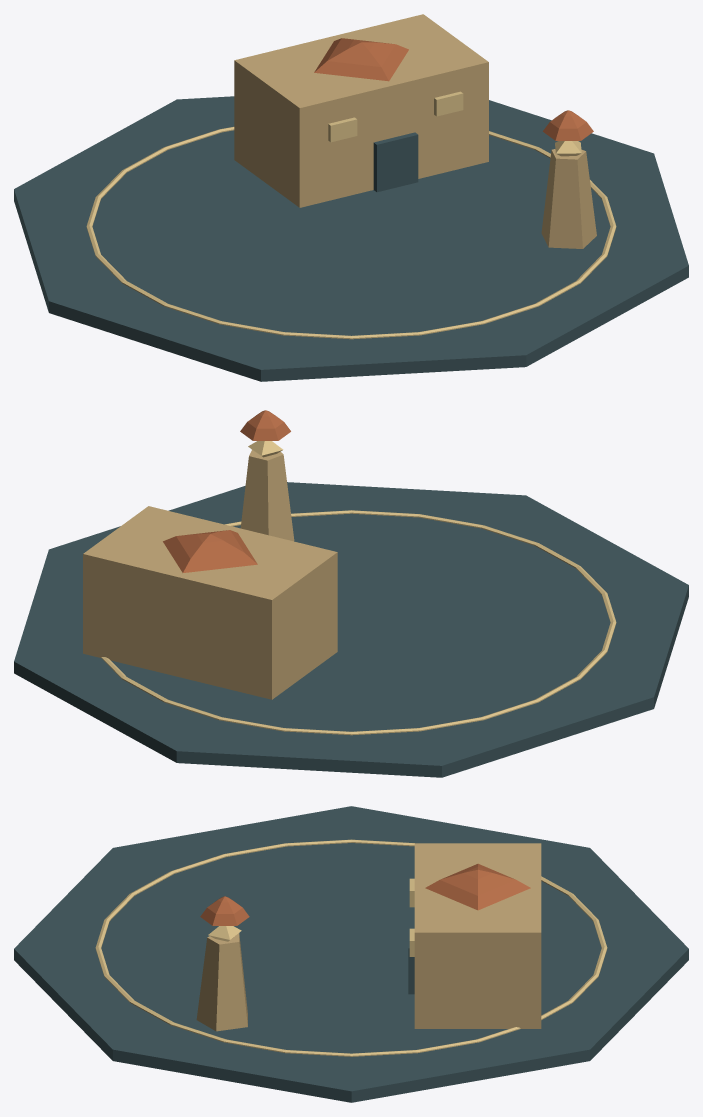
Rendered from deck.gltf.
3 views of the same model, one above another, from view 1: azimuth 30°, elevation 25°; view 2: azimuth 150°, elevation 25°; view 3: azimuth 270°, elevation 25° (orthographic). The views are drawn at different scales.
Visible parts, largest first — view 1: cylinder, block, beacon, ring; view 2: cylinder, block, beacon, ring; view 3: cylinder, block, beacon, ring.
Part boxes in pixels (x1=…): cylinder: x1=14, y1=96, x2=688, y2=381; block: x1=234, y1=14, x2=488, y2=207; beacon: x1=541, y1=110, x2=596, y2=248; ring: x1=86, y1=126, x2=616, y2=339; cylinder: x1=14, y1=482, x2=688, y2=777; block: x1=83, y1=506, x2=337, y2=699; beacon: x1=240, y1=410, x2=294, y2=541; ring: x1=101, y1=510, x2=616, y2=735; cylinder: x1=14, y1=806, x2=688, y2=1102; block: x1=408, y1=843, x2=541, y2=1028; beacon: x1=196, y1=896, x2=249, y2=1031; ring: x1=95, y1=839, x2=607, y2=1056.
Size of the model in its own units: 16 by 3.54 by 16.
